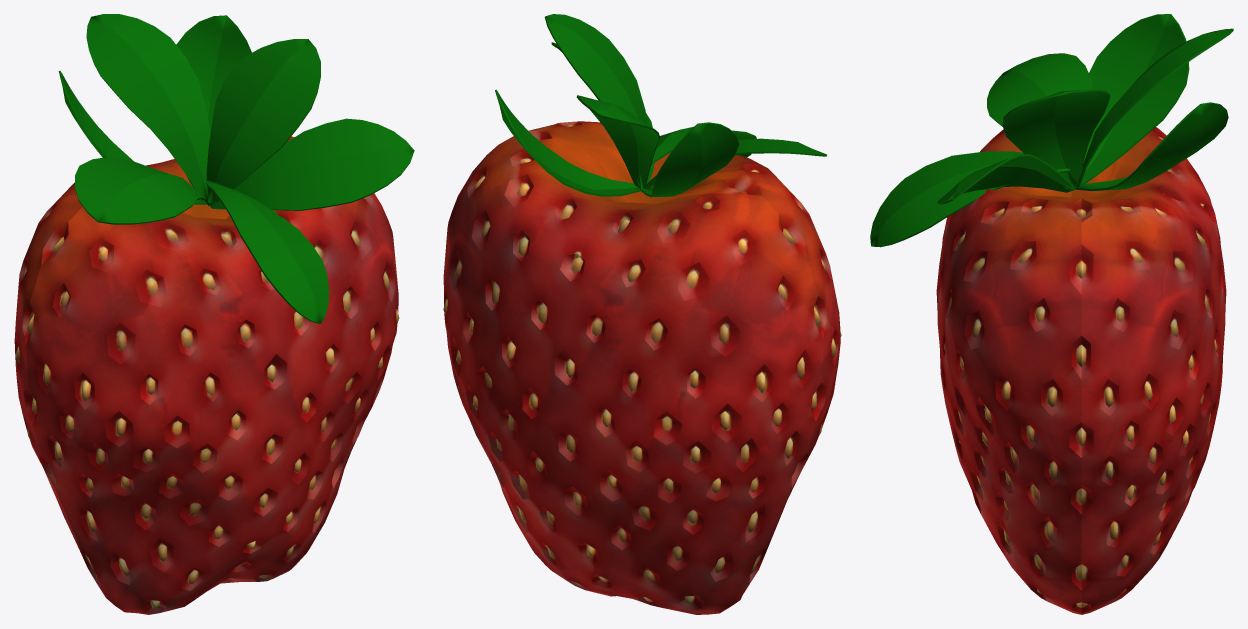
File: fraise1.FBX
3 renders of one model, left to right at view 1: azimuth 30°, elevation 25°; view 2: azimuth 150°, elevation 25°; view 3: azimuth 270°, elevation 25°, orthographic. The views are drawn at different scales.
Parts seen in each view (by area): view 1: Fraise_Positive006, Feuille_fraise_020; view 2: Fraise_Positive006, Feuille_fraise_020; view 3: Fraise_Positive006, Feuille_fraise_020.
Boxes of the visible parts, box(x1,y1,x2,y2) form: Fraise_Positive006: box(14, 136, 399, 614); Feuille_fraise_020: box(58, 14, 414, 323); Fraise_Positive006: box(443, 121, 841, 614); Feuille_fraise_020: box(495, 14, 826, 197); Fraise_Positive006: box(936, 127, 1226, 614); Feuille_fraise_020: box(870, 14, 1233, 247).
Size of the model in its own units: 1.39 by 2 by 1.2.
